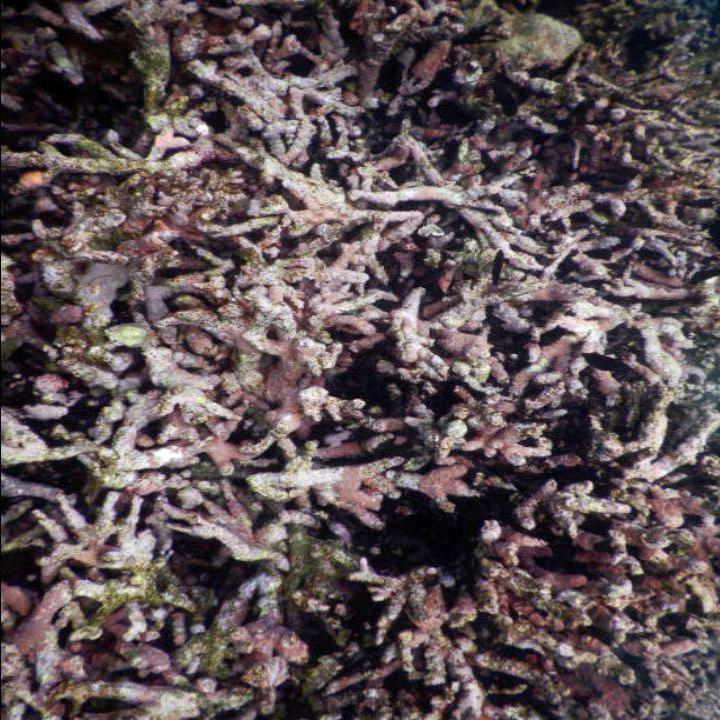Dead Coral: (194, 90, 577, 561)
